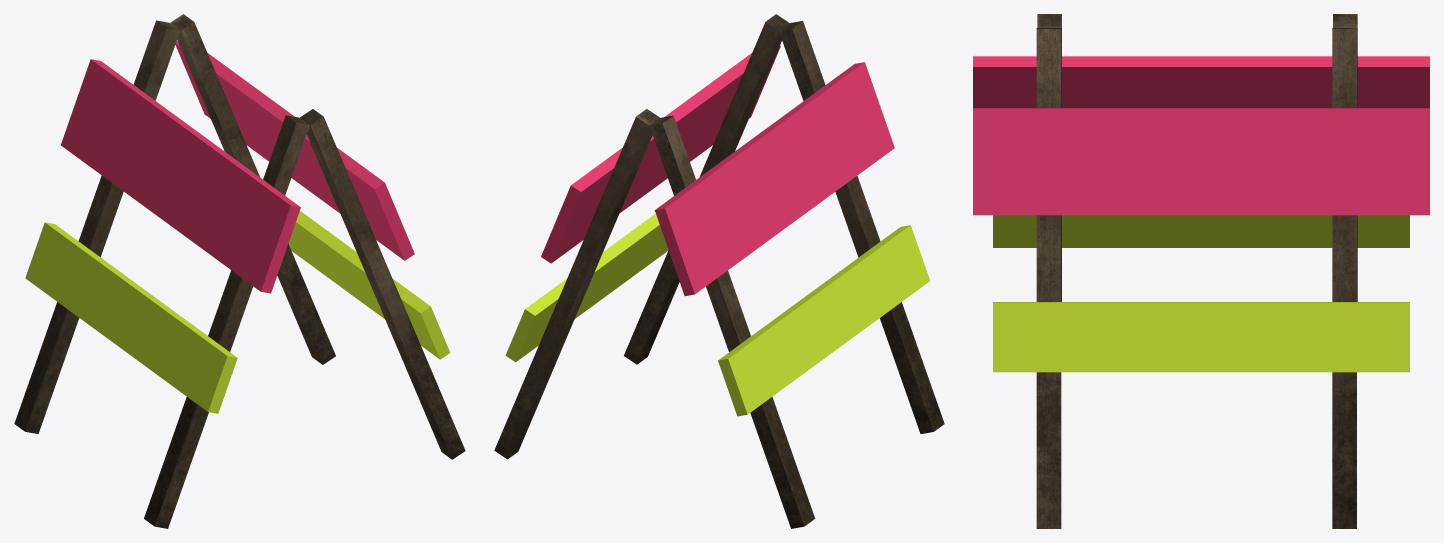
File: Fence.fbx
3 views of the same model, side by side, from view 1: azimuth 30°, elevation 25°; view 2: azimuth 150°, elevation 25°; view 3: azimuth 270°, elevation 25° (orthographic). The views are drawn at different scales.
Visible parts, largest first — view 1: Plane; view 2: Plane; view 3: Plane.
Boxes of the visible parts, left/top/right/bottom form: Plane: left=14, top=14, right=465, bottom=528; Plane: left=494, top=14, right=944, bottom=528; Plane: left=973, top=14, right=1429, bottom=528.
Bounding box in the file's own units: 67.53 × 77.76 × 75.31.
